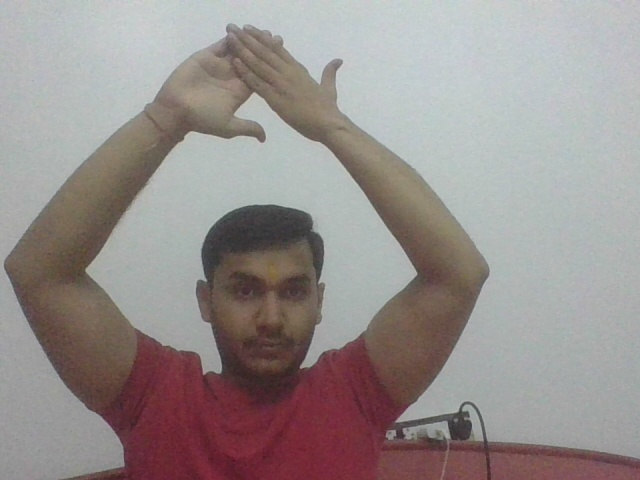H: (162, 21, 349, 151)
